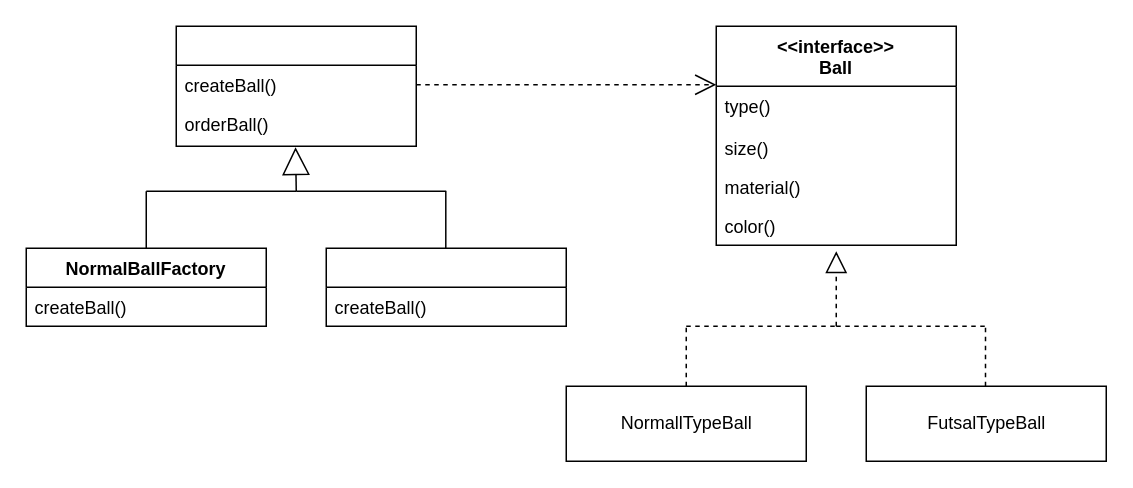
Some shapes in this 1133 by 488 pixel diagram are drawn without their labels. The box of each missing label's shape, as (x1, y1, x2, y2) in pixels:
BallFactory: (175, 25, 416, 146)
FutsalBallFactory: (325, 247, 566, 326)
